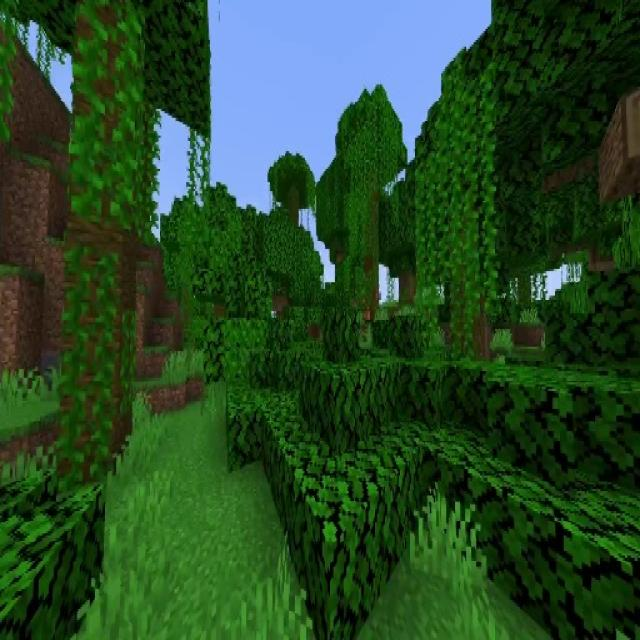jungle_log: (68, 0, 140, 485)
